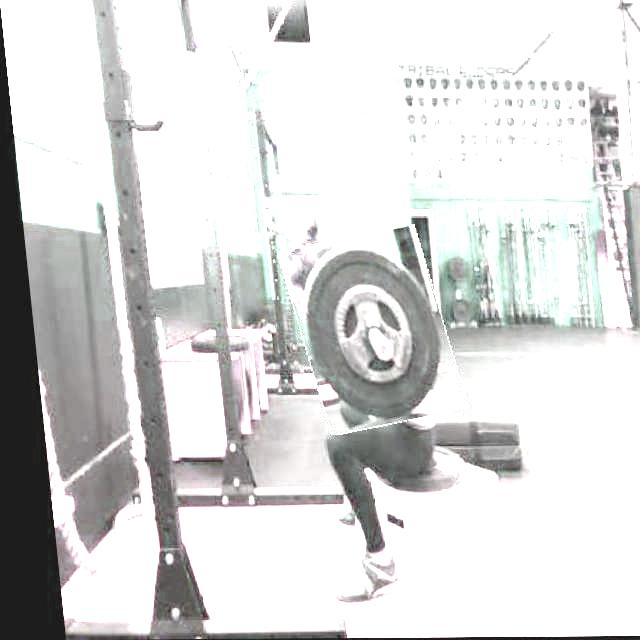barbell: (280, 232, 455, 430)
